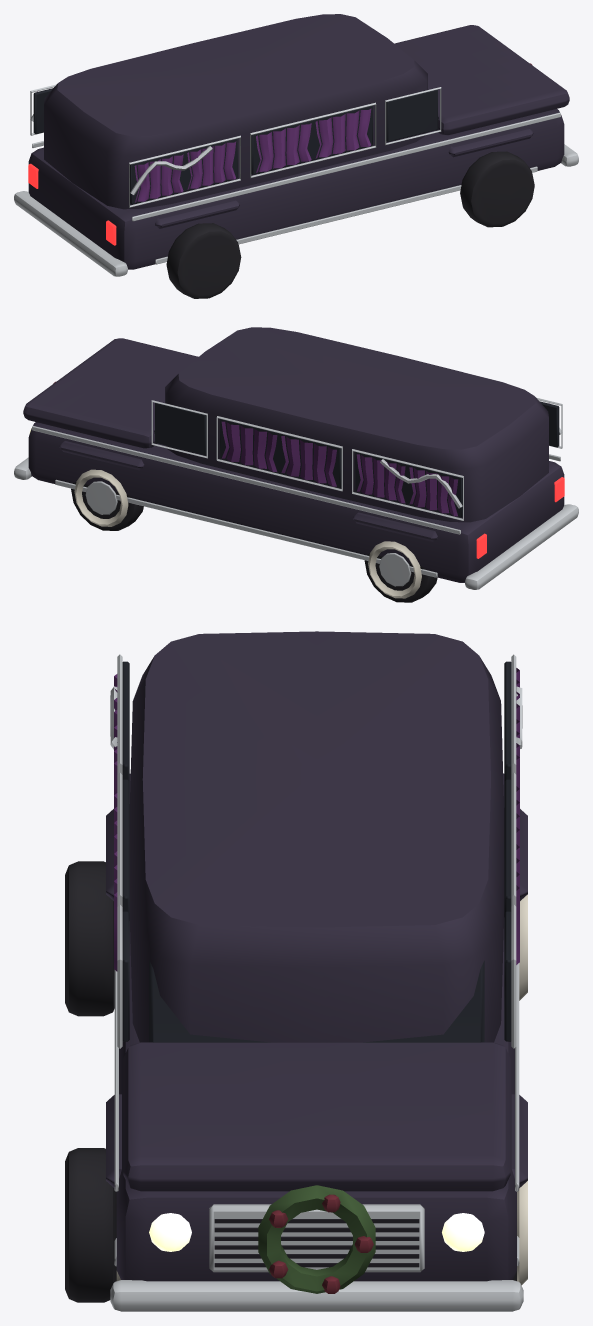
The model's file is env_hearse.glb.
3 views of the same model, one above another, from view 1: azimuth 30°, elevation 25°; view 2: azimuth 150°, elevation 25°; view 3: azimuth 270°, elevation 25° (orthographic). The views are drawn at different scales.
Visible parts, largest first — view 1: env_hearse, bulb; view 2: env_hearse, bulb; view 3: env_hearse, bulb.
Boxes of the visible parts, x1,y1,x2,y2 form: env_hearse: (14, 14, 578, 298); bulb: (28, 114, 563, 245); env_hearse: (14, 327, 578, 602); bulb: (29, 427, 564, 558); env_hearse: (65, 631, 527, 1311); bulb: (149, 1213, 484, 1251).
Bounding box in the file's own units: 5.07 × 1.64 × 2.15.
